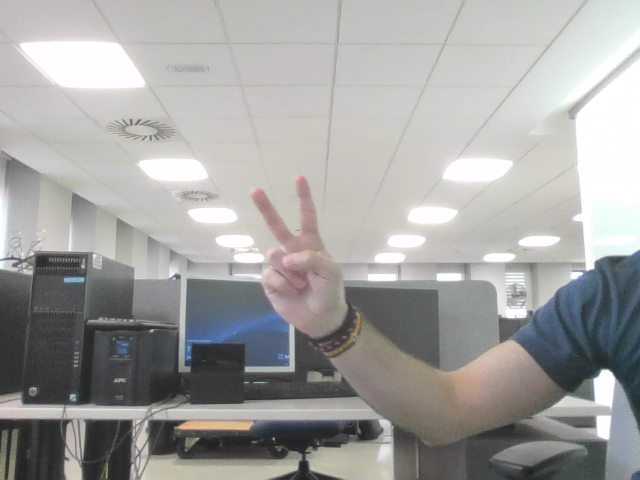2Dedos: (260, 186, 328, 289)
